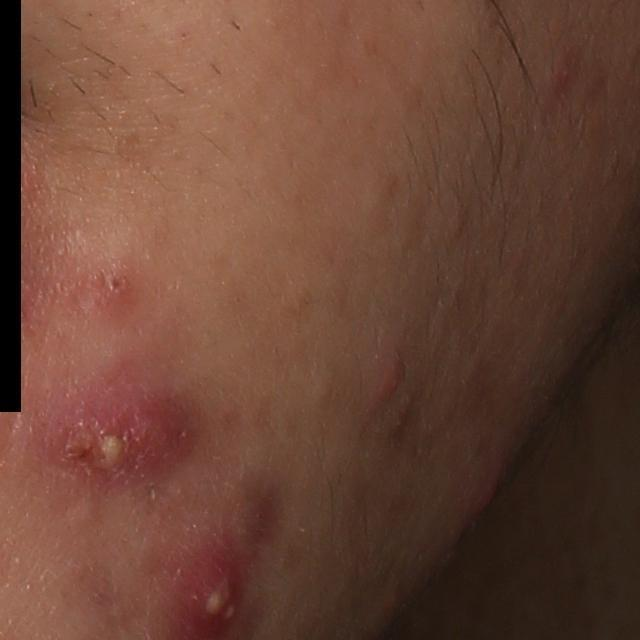comedo: (308, 372, 335, 403)
nodule: (28, 377, 207, 486)
papule: (360, 351, 411, 418), (462, 468, 502, 531), (90, 267, 133, 312), (551, 41, 581, 96)
